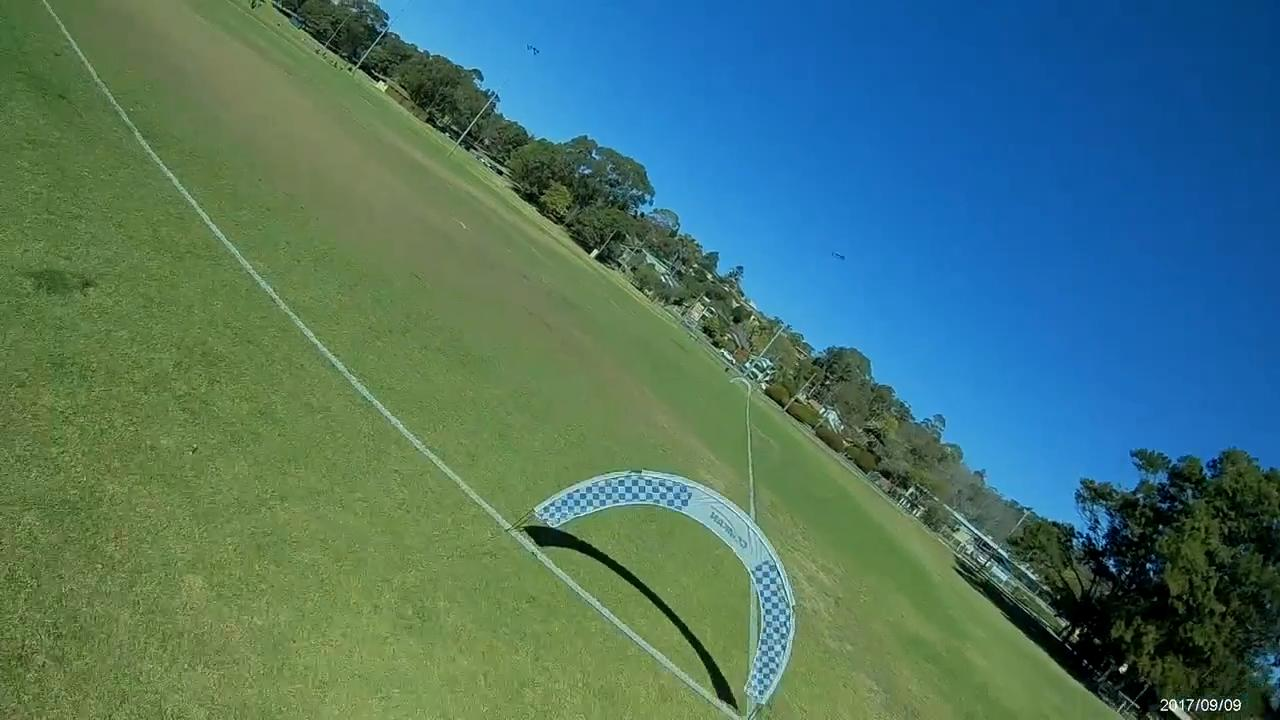gate: (530, 468, 796, 708)
